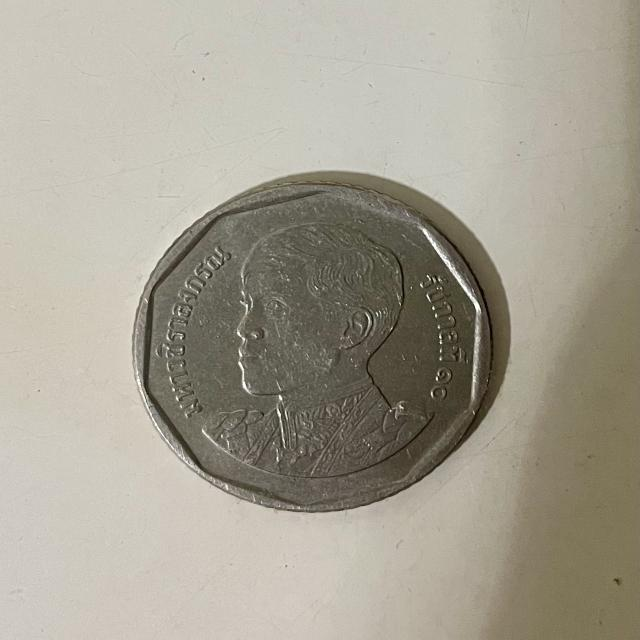5 Bath: (127, 173, 506, 521)
